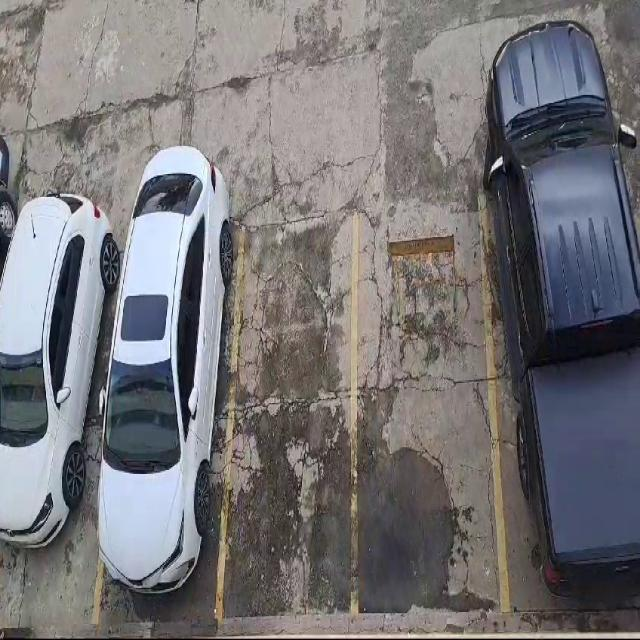empty: (354, 203, 505, 617), (219, 215, 354, 616)
notEmpty: (483, 173, 637, 617), (95, 234, 245, 622), (1, 246, 128, 627)
